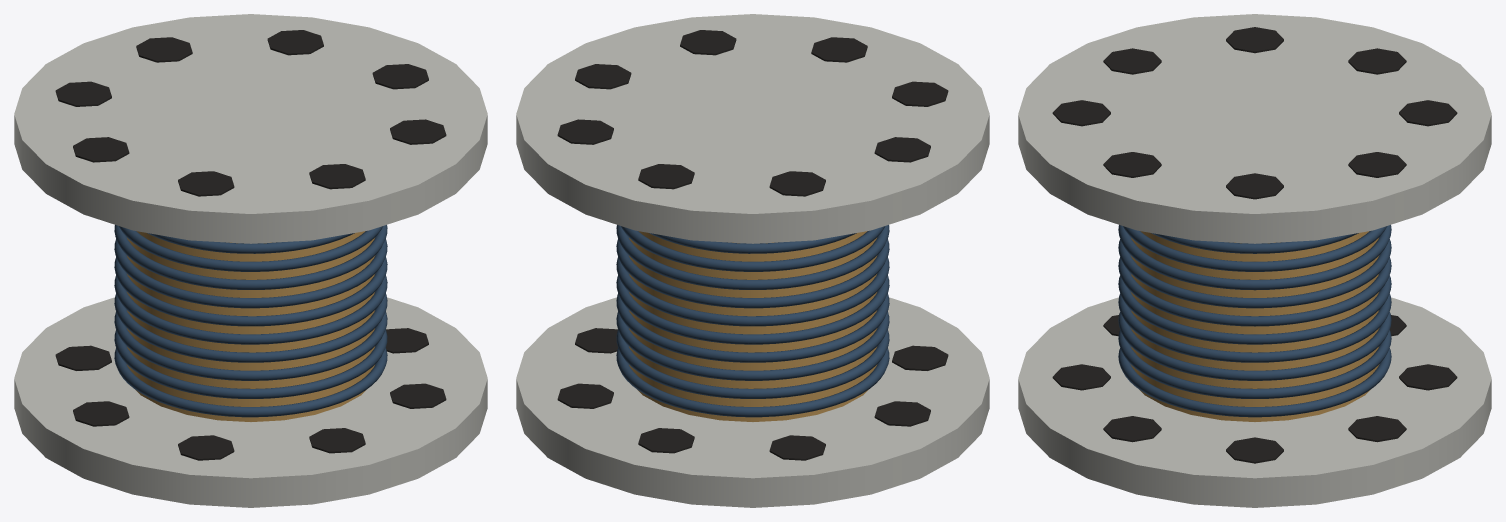
The model's file is sewing-bobbin.glb.
3 renders of one model, left to right at view 1: azimuth 30°, elevation 25°; view 2: azimuth 150°, elevation 25°; view 3: azimuth 270°, elevation 25°, orthographic.
Visible parts, largest first — view 1: bobbin-rim-0.08, bobbin-rim--0.08, bobbin-core, bobbin-thread-3, bobbin-thread-0, bobbin-thread-6, bobbin-thread-5, bobbin-thread-4, bobbin-thread-2, bobbin-thread-1, bobbin-thread-7, bobbin-thread-8 (+15 smaller); view 2: bobbin-rim-0.08, bobbin-rim--0.08, bobbin-core, bobbin-thread-3, bobbin-thread-0, bobbin-thread-6, bobbin-thread-5, bobbin-thread-4, bobbin-thread-2, bobbin-thread-1, bobbin-thread-7, bobbin-thread-8 (+15 smaller); view 3: bobbin-rim-0.08, bobbin-rim--0.08, bobbin-core, bobbin-thread-5, bobbin-thread-6, bobbin-thread-0, bobbin-thread-3, bobbin-thread-1, bobbin-thread-2, bobbin-thread-4, bobbin-thread-7, bobbin-thread-8 (+14 smaller).
Boxes of the visible parts, bbox=[...] form: bobbin-rim-0.08: bbox=[14, 14, 487, 243]; bobbin-rim--0.08: bbox=[14, 297, 487, 507]; bobbin-core: bbox=[126, 231, 375, 421]; bobbin-thread-3: bbox=[114, 293, 387, 362]; bobbin-thread-0: bbox=[114, 348, 387, 417]; bobbin-thread-6: bbox=[114, 239, 387, 308]; bobbin-thread-5: bbox=[114, 257, 387, 326]; bobbin-thread-4: bbox=[114, 275, 387, 344]; bobbin-thread-2: bbox=[114, 311, 387, 380]; bobbin-thread-1: bbox=[114, 329, 387, 398]; bobbin-thread-7: bbox=[114, 225, 387, 289]; bobbin-thread-8: bbox=[119, 226, 382, 271]; bobbin-rim-0.08: bbox=[516, 14, 989, 243]; bobbin-rim--0.08: bbox=[516, 297, 989, 507]; bobbin-core: bbox=[628, 231, 877, 421]; bobbin-thread-3: bbox=[616, 293, 889, 362]; bobbin-thread-0: bbox=[616, 348, 889, 417]; bobbin-thread-6: bbox=[616, 239, 889, 308]; bobbin-thread-5: bbox=[616, 257, 889, 326]; bobbin-thread-4: bbox=[616, 275, 889, 344]; bobbin-thread-2: bbox=[616, 311, 889, 380]; bobbin-thread-1: bbox=[616, 329, 889, 398]; bobbin-thread-7: bbox=[616, 225, 889, 289]; bobbin-thread-8: bbox=[621, 226, 884, 271]; bobbin-rim-0.08: bbox=[1018, 14, 1491, 243]; bobbin-rim--0.08: bbox=[1018, 297, 1491, 507]; bobbin-core: bbox=[1130, 231, 1379, 421]; bobbin-thread-5: bbox=[1118, 257, 1391, 326]; bobbin-thread-6: bbox=[1118, 239, 1391, 308]; bobbin-thread-0: bbox=[1118, 348, 1391, 417]; bobbin-thread-3: bbox=[1118, 293, 1391, 362]; bobbin-thread-1: bbox=[1118, 330, 1391, 398]; bobbin-thread-2: bbox=[1118, 312, 1391, 380]; bobbin-thread-4: bbox=[1118, 275, 1391, 344]; bobbin-thread-7: bbox=[1118, 225, 1391, 290]; bobbin-thread-8: bbox=[1122, 226, 1387, 271].
Size of the model in its own units: 0.26 by 0.18 by 0.26.
